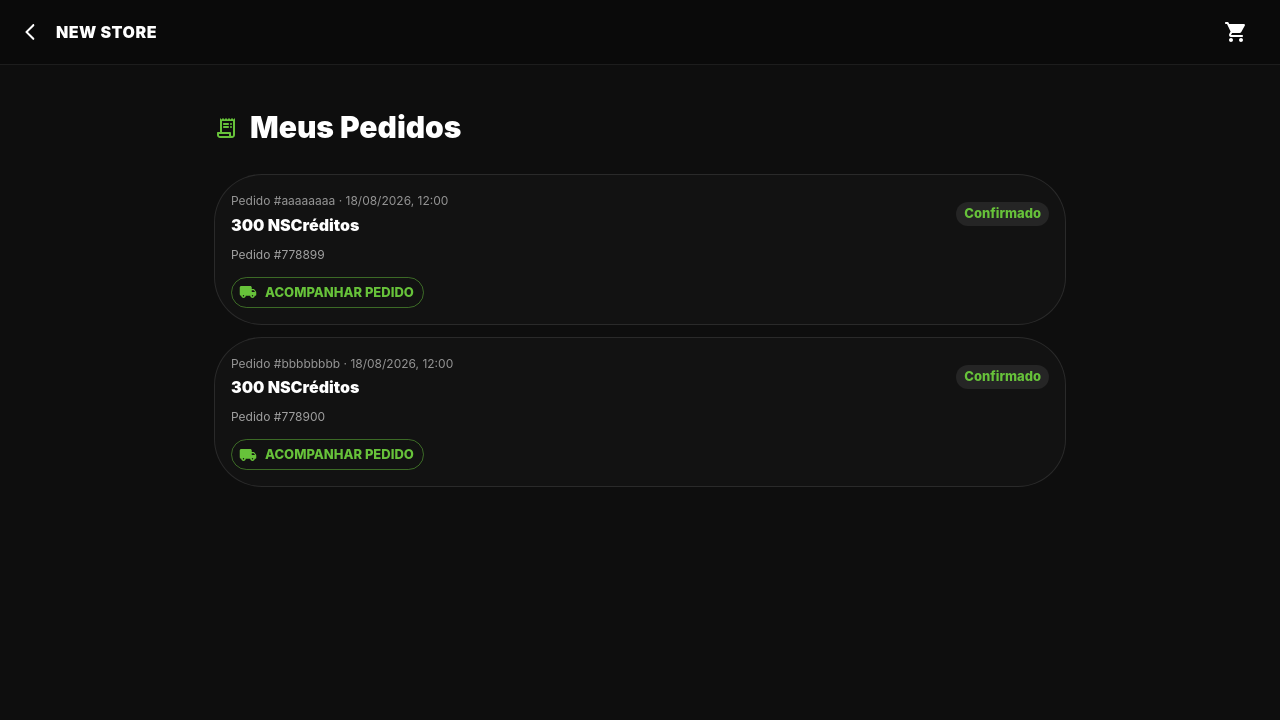
it: acompanhamento indisponivel nao derruba os outros pedidos da lista
Click the button "ACOMPANHAR PEDIDO" below "778899" at coordinates (327, 292), box [231,277,424,308]
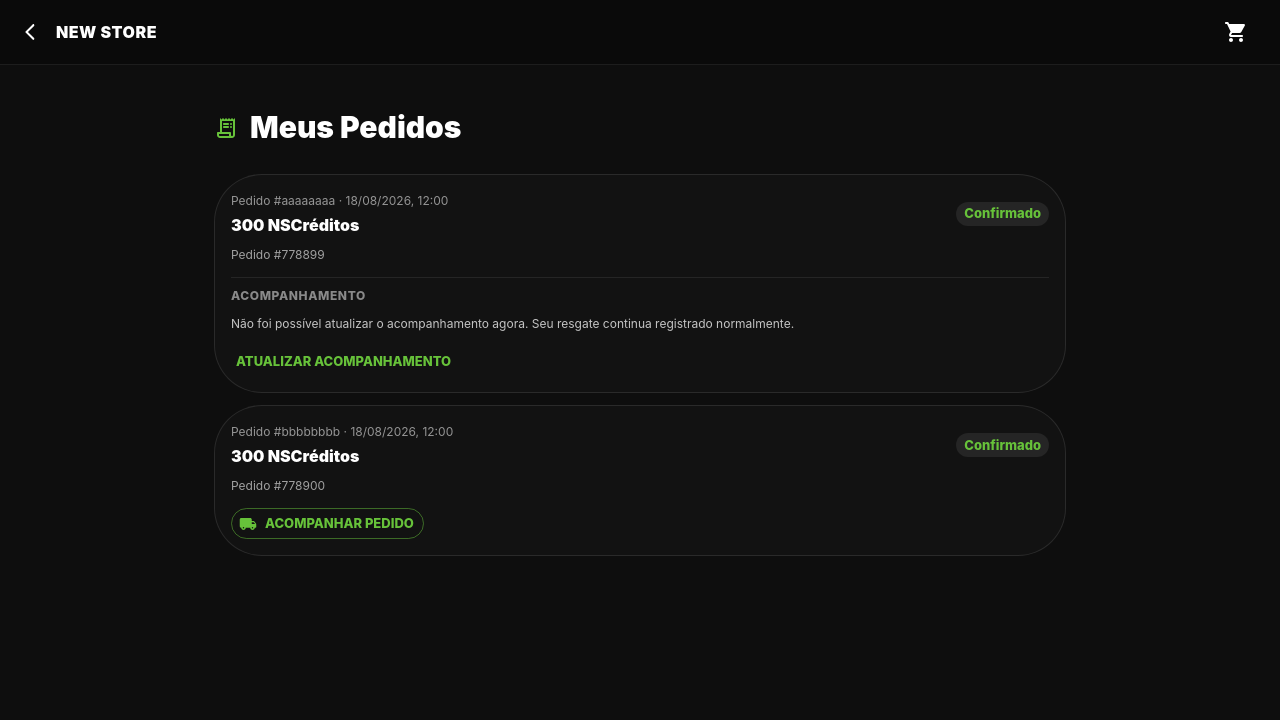
Check: the text "Confirmado" is shown 2 times, box [964,205,1041,221]; [964,437,1041,453]
Check: the text "Não foi possível atualizar o acompanhamento agora" is shown, box [231,316,794,331]
